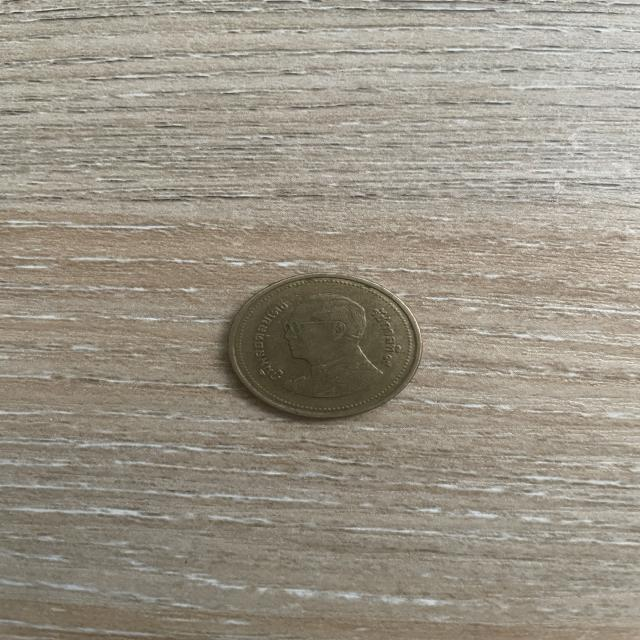2 Bath: (211, 268, 432, 436)
